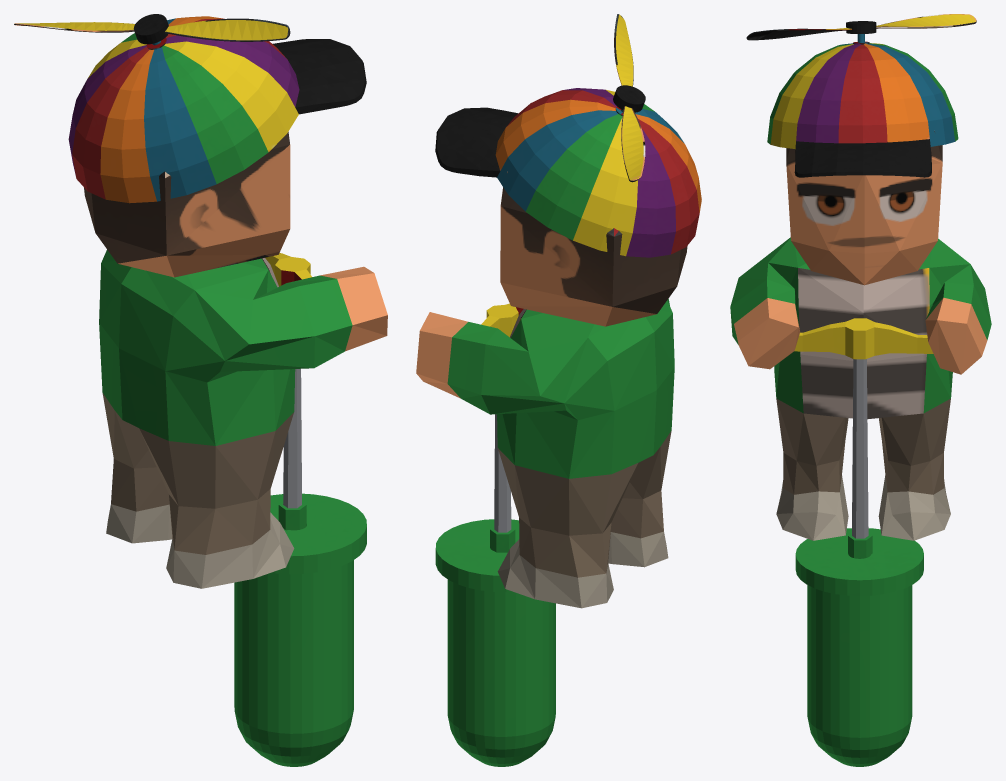
The model's file is GreenPogger.fbx.
3 views of the same model, side by side, from view 1: azimuth 30°, elevation 25°; view 2: azimuth 150°, elevation 25°; view 3: azimuth 270°, elevation 25° (orthographic). The views are drawn at different scales.
Parts seen in each view (by area): view 1: ValjdaRadi; view 2: ValjdaRadi; view 3: ValjdaRadi.
Part boxes in pixels (bbox=[...]): ValjdaRadi: bbox=[14, 14, 387, 766]; ValjdaRadi: bbox=[416, 14, 701, 766]; ValjdaRadi: bbox=[730, 14, 991, 766].
Size of the model in its own units: 0.3619 by 0.986 by 0.3328.
1 material, 1 textured.
